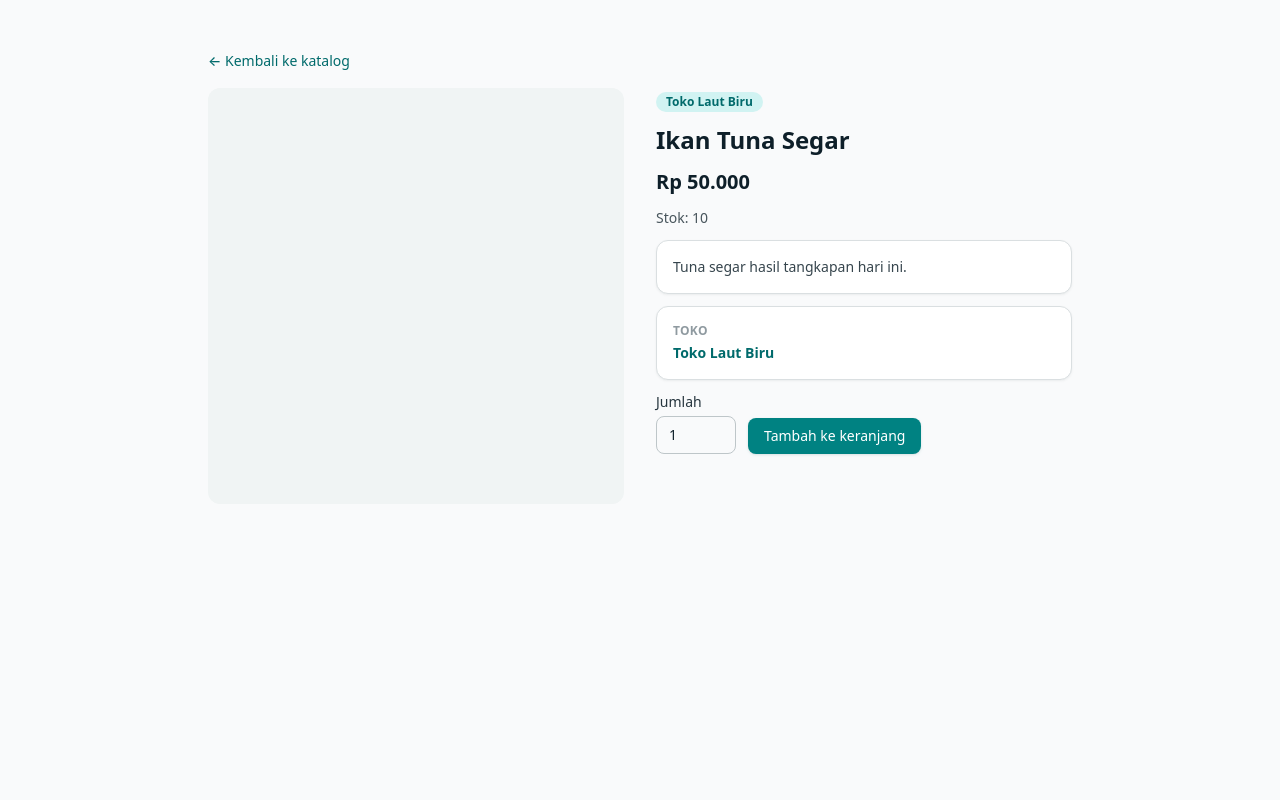
Test: ProductDetail add-to-cart store-conflict dialog › clears the cart then re-adds the product when the conflict is resolved
Check: the heading "Ikan Tuna Segar" is shown, box [656,123,850,156]
Click the button "Tambah ke keranjang". click: [835, 436]
box: [748,418,922,454]
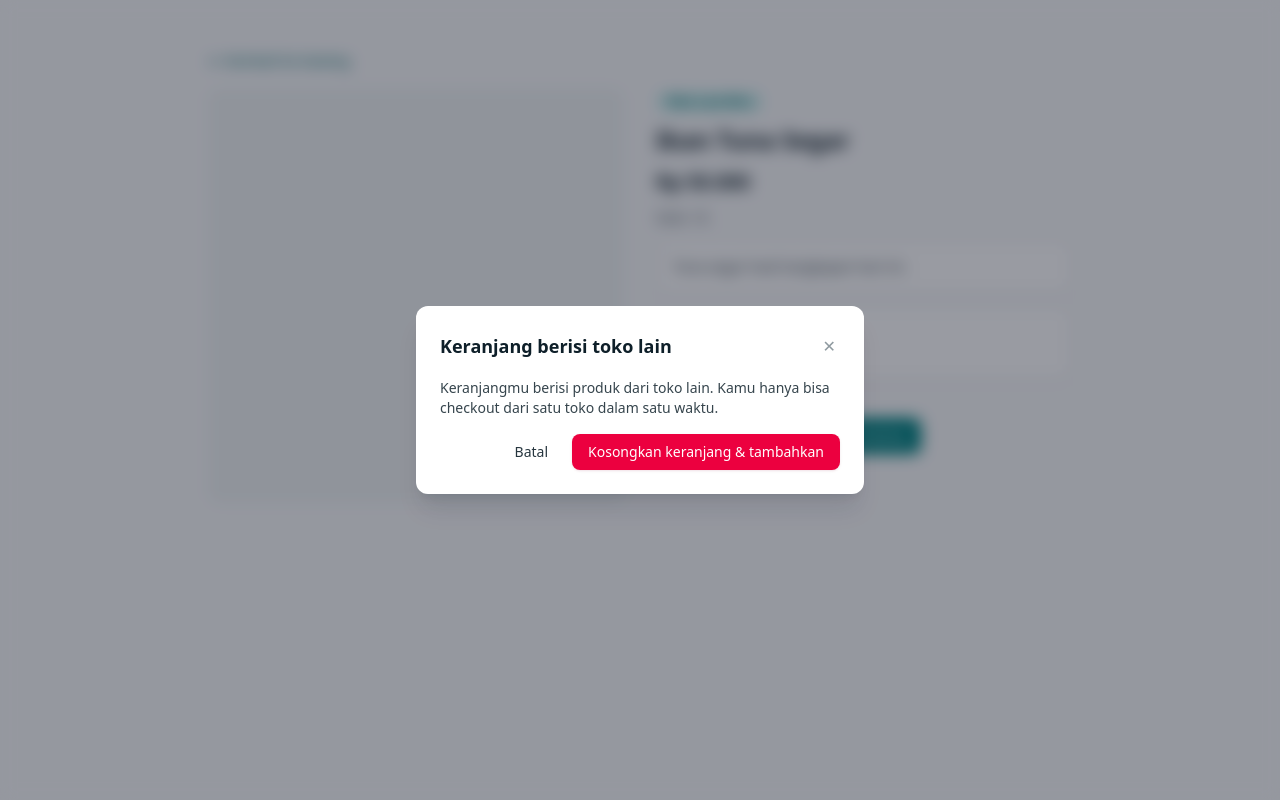
Check: the dialog is shown, box [416,306,864,494]
Click the button "Kosongkan keranjang & tambahkan". click: [706, 452]
box: [572,434,840,470]
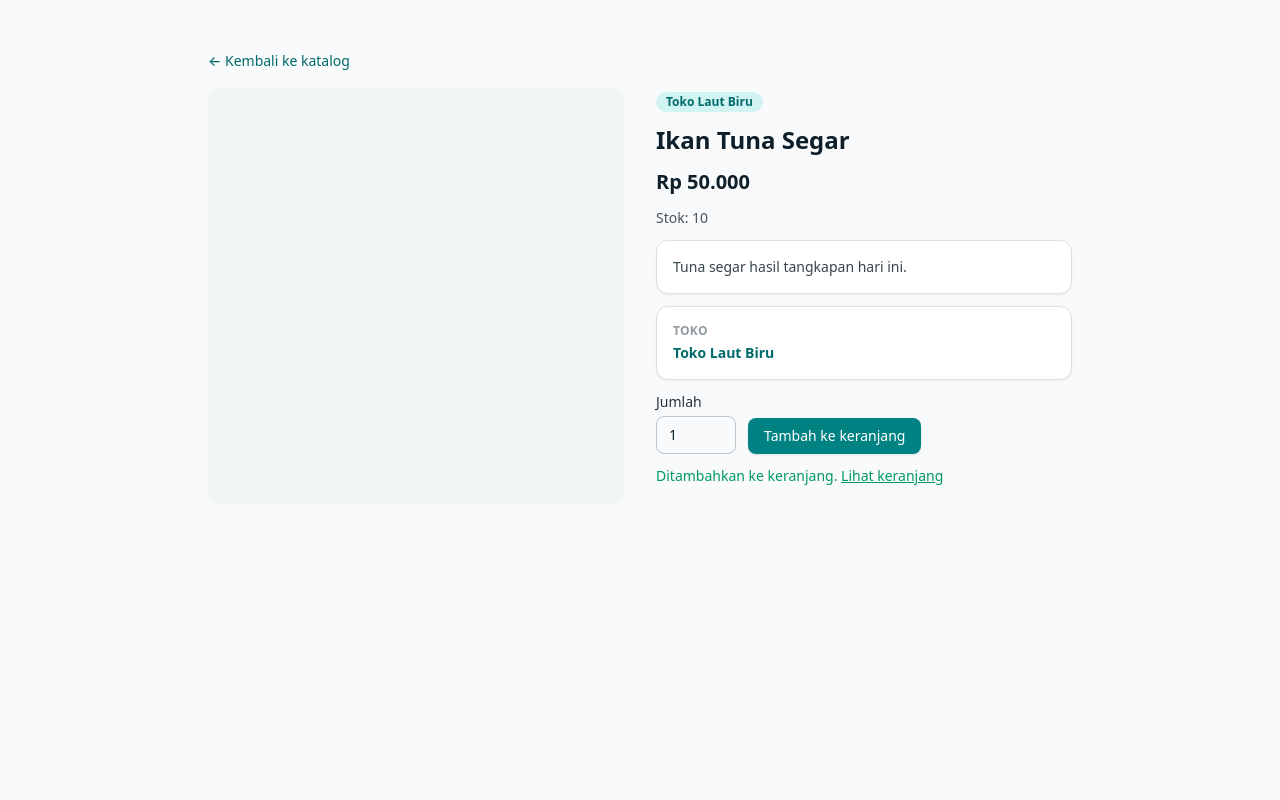
Check: the dialog is gone
